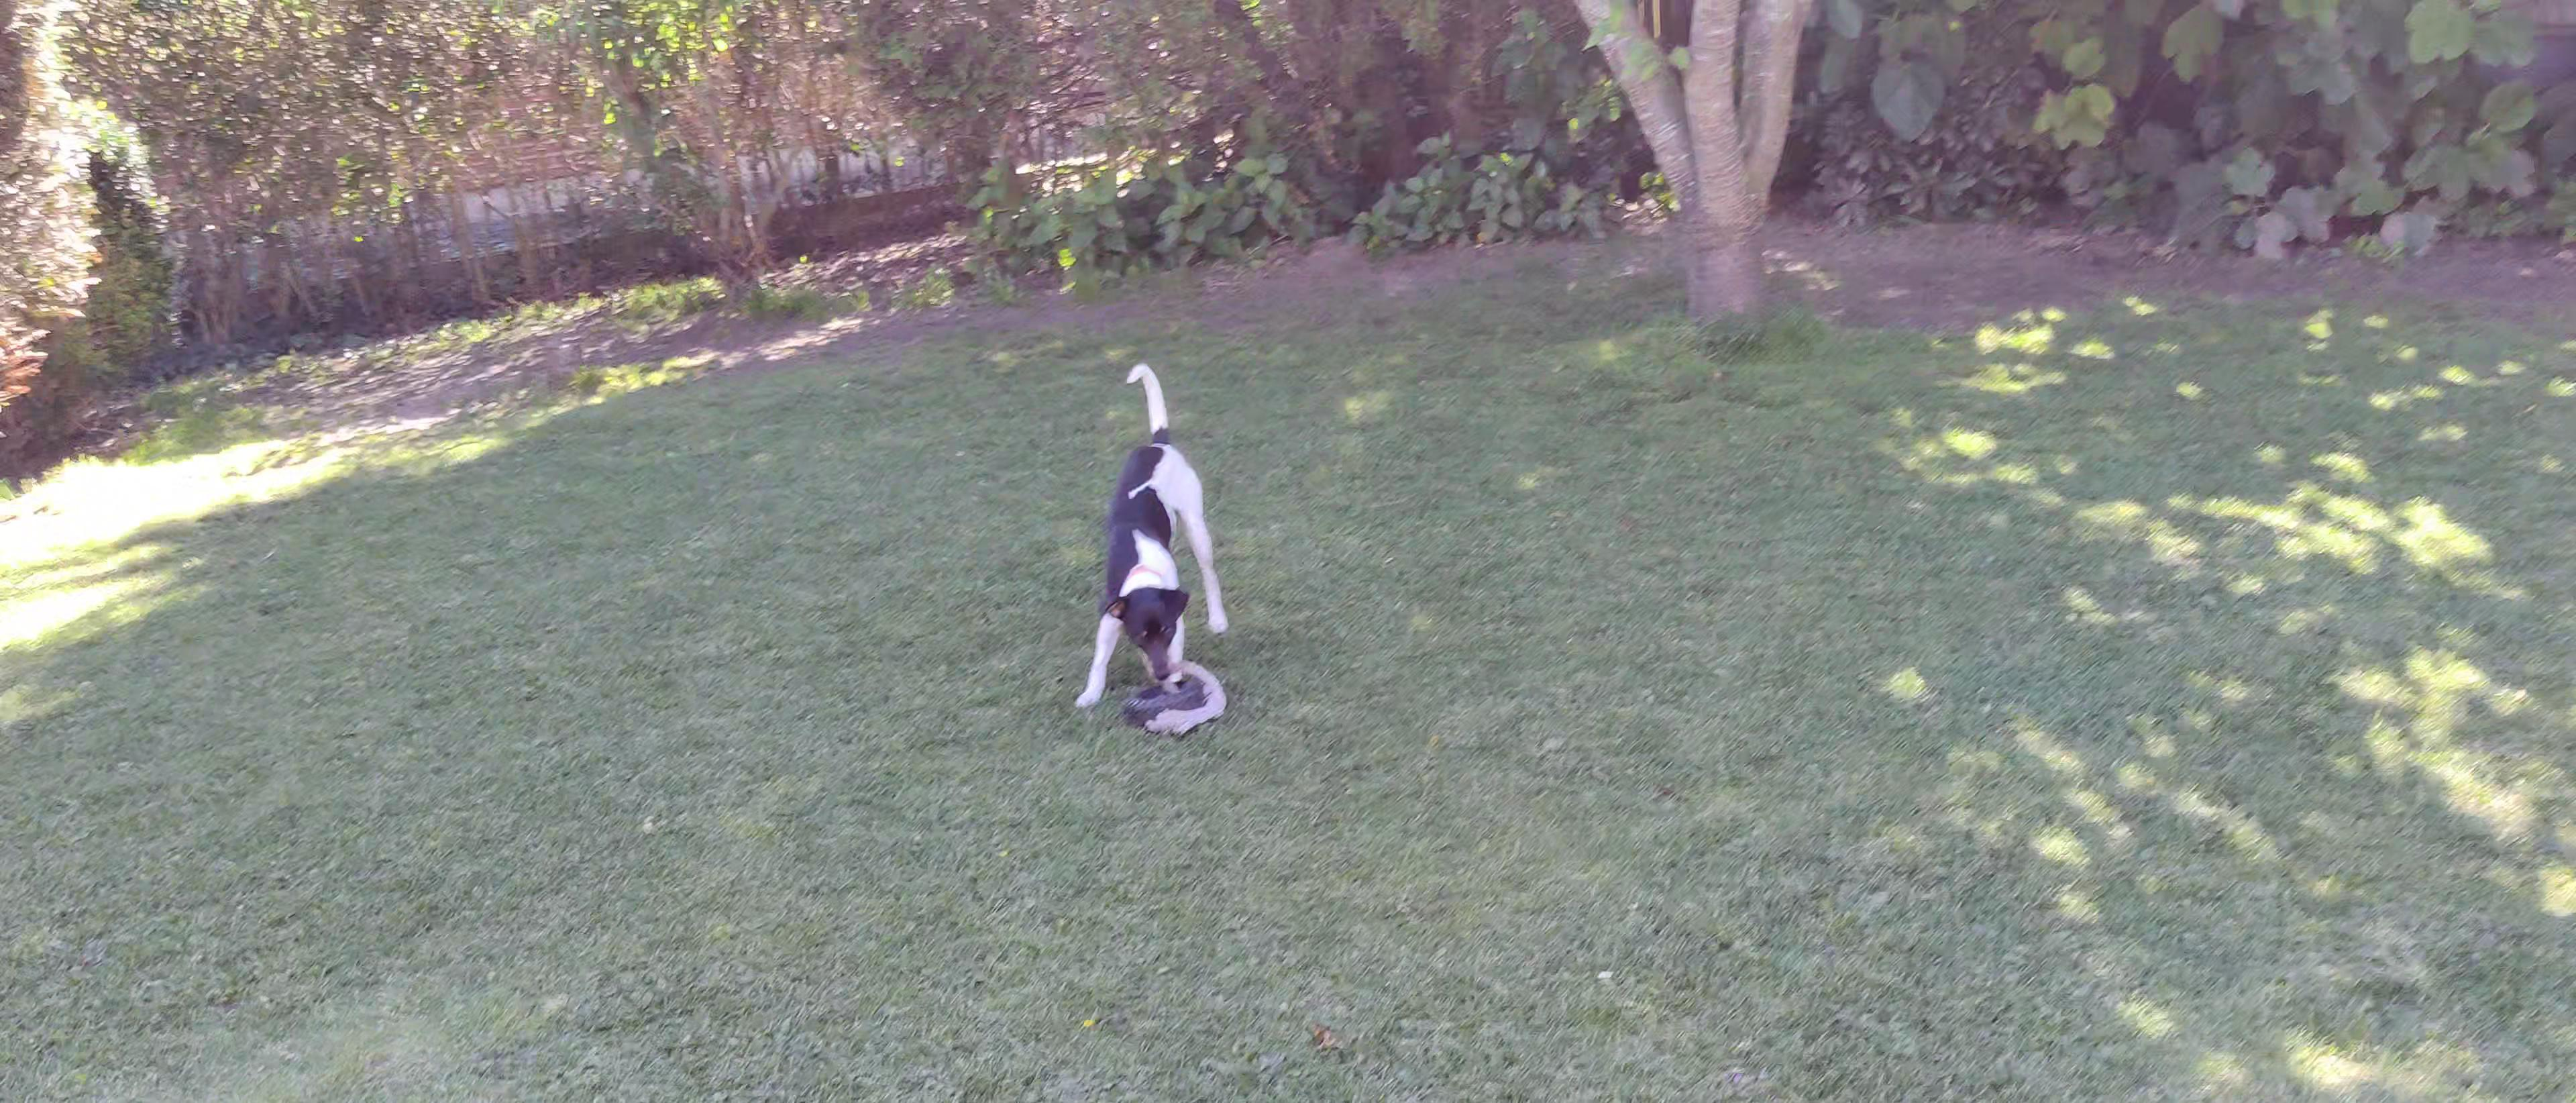Dog: (1053, 358, 1249, 712)
